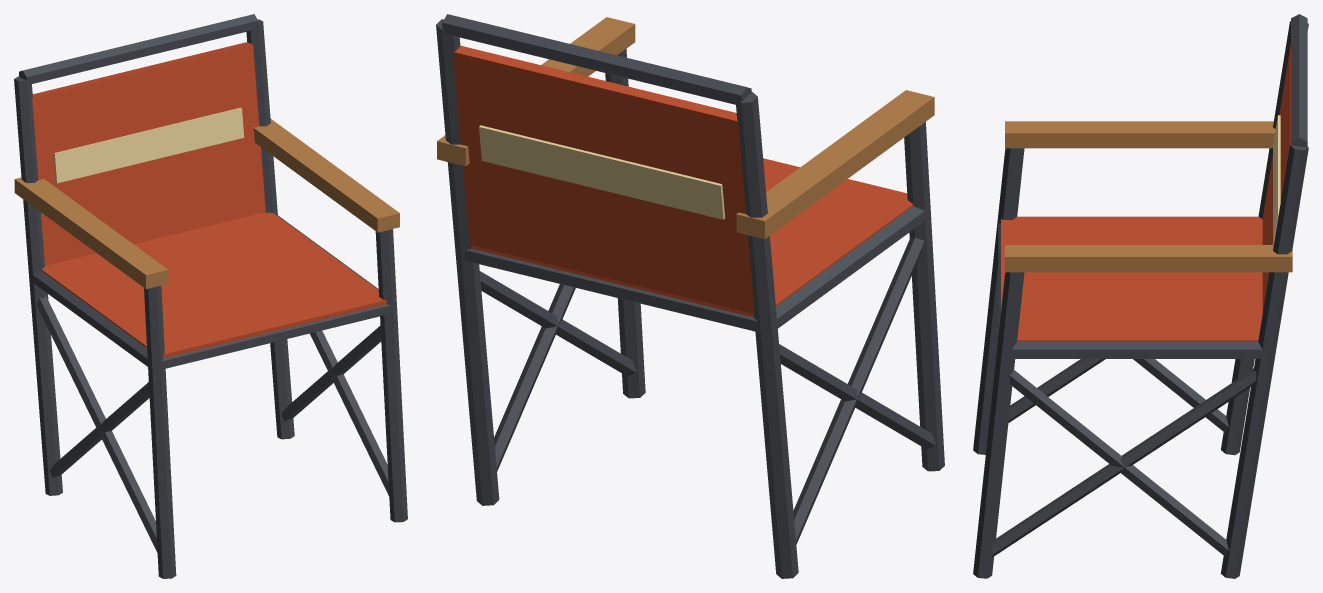
File: camp_chair.glb
The picture shows the model from 3 angles, left to right: view 1: azimuth 30°, elevation 25°; view 2: azimuth 150°, elevation 25°; view 3: azimuth 270°, elevation 25°; orthographic projection. The views are drawn at different scales.
Visible parts, largest first — view 1: camp_chair; view 2: camp_chair; view 3: camp_chair.
Part boxes in pixels (x1=…): camp_chair: x1=14, y1=14, x2=407, y2=578; camp_chair: x1=436, y1=14, x2=944, y2=578; camp_chair: x1=973, y1=14, x2=1308, y2=578.
Size of the model in its own units: 0.57 by 0.8595 by 0.5967.
